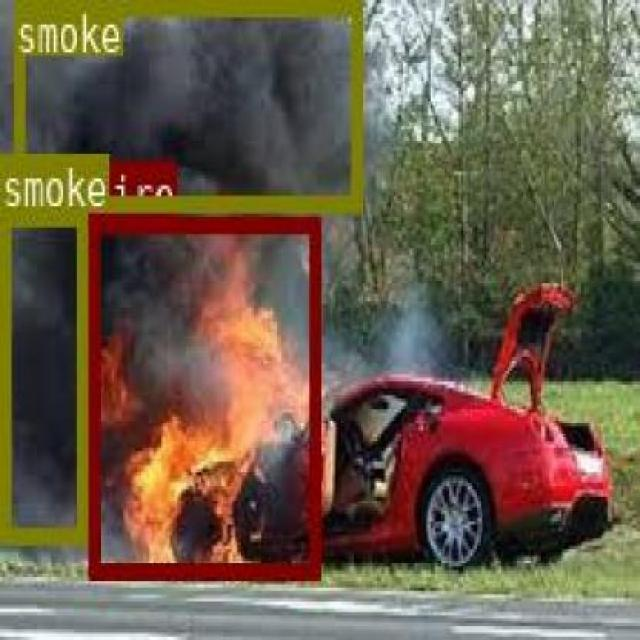Fire: (88, 215, 317, 577)
Smoke: (12, 0, 358, 209), (0, 208, 83, 540)
